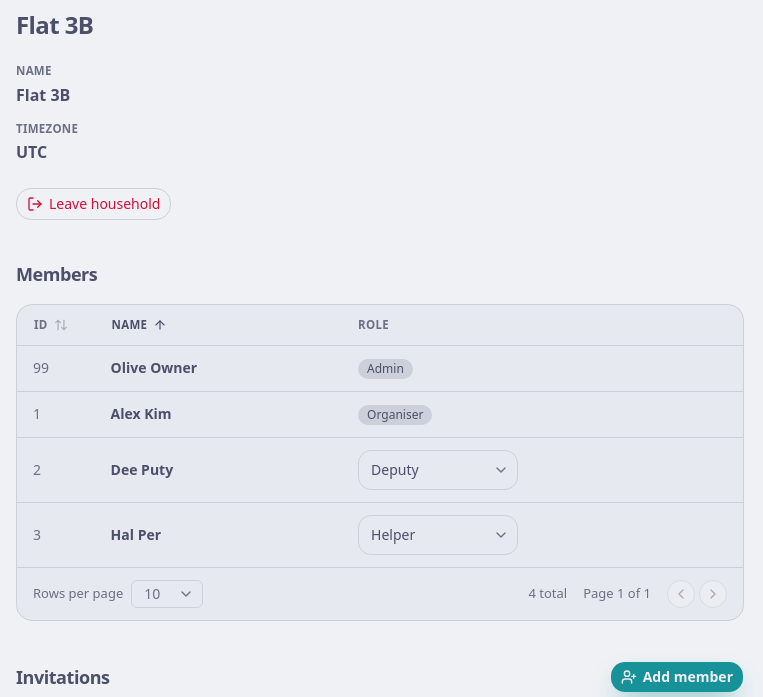
HouseholdEdit › offers an organiser deputy and helper only, and never on an organiser row
Expected: the text "Hal Per" is shown, x1=111 y1=524 x2=161 y2=544
// ...and the deputy and helper rows are editable, with `organiser` absent from the options.
Click the dropdown named "Role for Hal Per" at (438, 534), box x1=358 y1=514 x2=518 y2=554
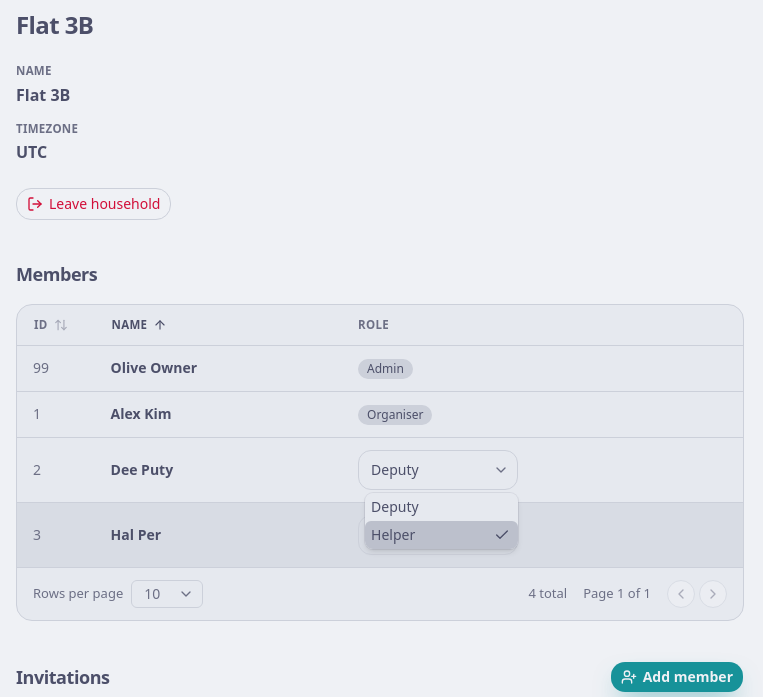
Expected: the options read "Deputy", "Helper", in this order, x1=371 y1=496 x2=419 y2=516; x1=365 y1=520 x2=518 y2=548
